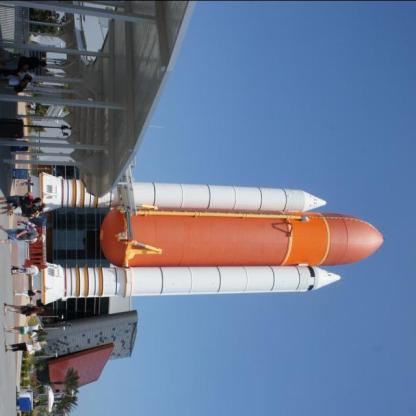MIL_TBM: (98, 205, 396, 267), (119, 263, 344, 299), (114, 179, 331, 213)
